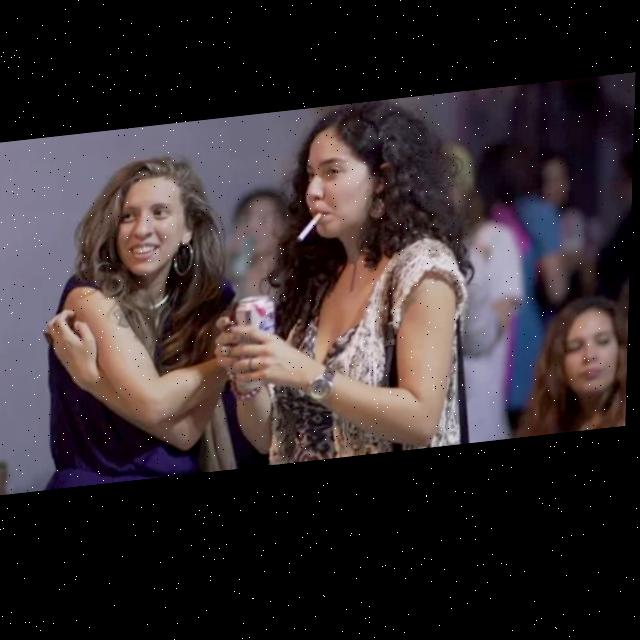cigarette: (299, 221, 323, 250)
